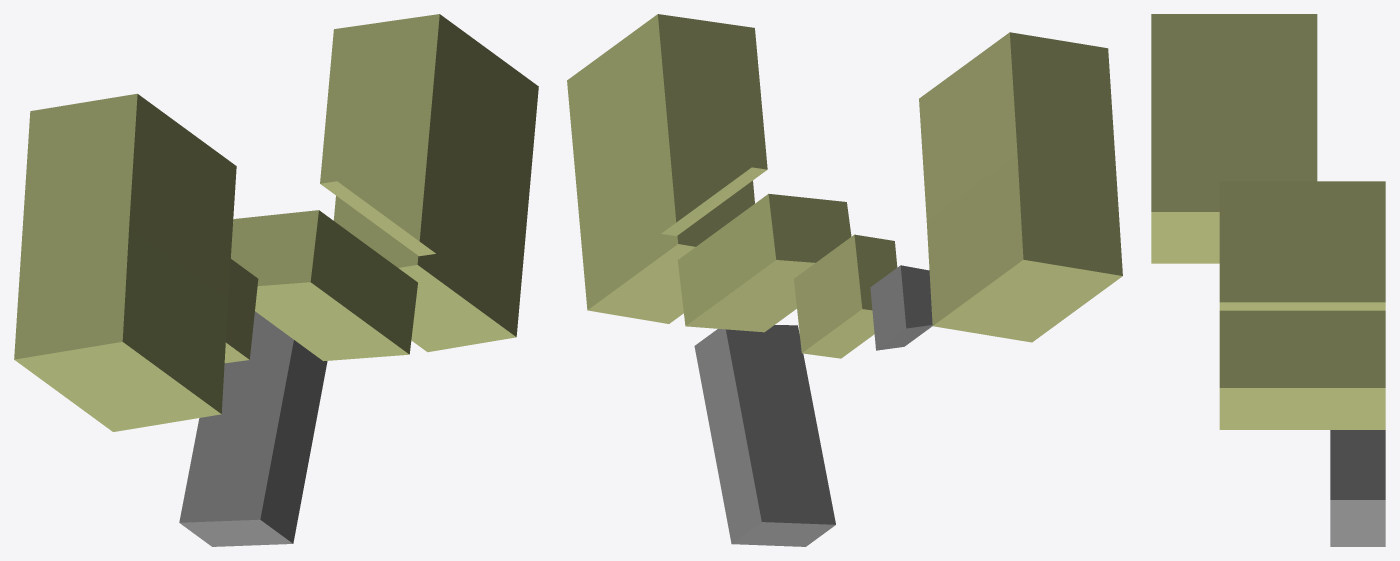
3 views of the same model, side by side, from view 1: azimuth 30°, elevation 25°; view 2: azimuth 150°, elevation 25°; view 3: azimuth 270°, elevation 25° (orthographic). The views are drawn at different scales.
Parts seen in each view (by area): view 1: 0_1_2_0_1_3_0_3_1_2; view 2: 0_1_2_0_1_3_0_3_1_2; view 3: 0_1_2_0_1_3_0_3_1_2.
Boxes of the visible parts, x1=… form: 0_1_2_0_1_3_0_3_1_2: x1=14, y1=14, x2=538, y2=546; 0_1_2_0_1_3_0_3_1_2: x1=567, y1=14, x2=1122, y2=546; 0_1_2_0_1_3_0_3_1_2: x1=1151, y1=14, x2=1385, y2=546.
Bounding box in the file's own units: 24.47 × 25.29 × 12.71.
